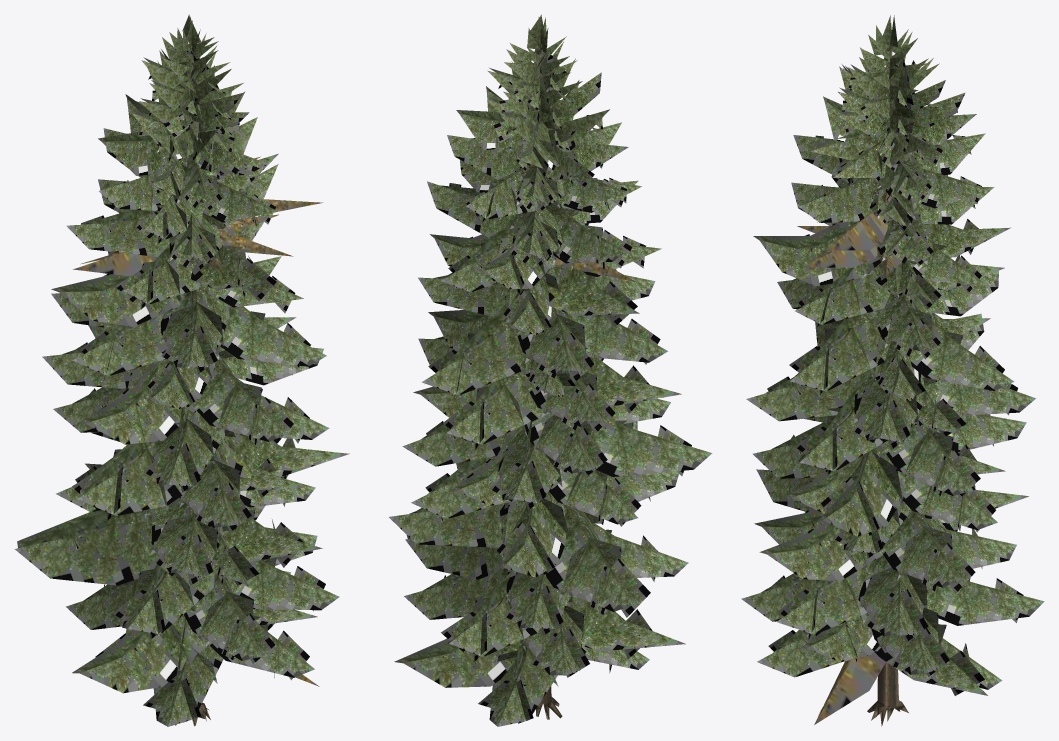
File: temperate-pine-a-mid.glb
3 views of the same model, side by side, from view 1: azimuth 30°, elevation 25°; view 2: azimuth 150°, elevation 25°; view 3: azimuth 270°, elevation 25° (orthographic).
Parts seen in each view (by area): view 1: pine_a_LOD0; view 2: pine_a_LOD0; view 3: pine_a_LOD0.
Part boxes in pixels (x1,y1,x2,y2): pine_a_LOD0: (14,14,349,726); pine_a_LOD0: (389,14,712,726); pine_a_LOD0: (741,15,1044,726).
Size of the model in its own units: 19.54 by 47.91 by 18.66.
1 material, 1 textured.
